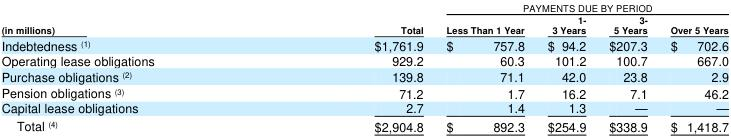table: (0, 0, 727, 134)
table column: (0, 0, 263, 134), (263, 0, 434, 134), (434, 0, 535, 134), (658, 0, 727, 134), (596, 0, 658, 134), (535, 0, 596, 134)
table column header: (0, 0, 727, 36)
table row: (0, 13, 727, 36), (0, 116, 727, 134), (0, 67, 727, 84), (0, 36, 727, 52), (0, 84, 727, 100), (0, 100, 727, 116), (0, 52, 727, 67), (0, 0, 727, 13)
table spanning cell: (0, 0, 263, 36), (263, 0, 434, 36), (434, 0, 727, 13)
